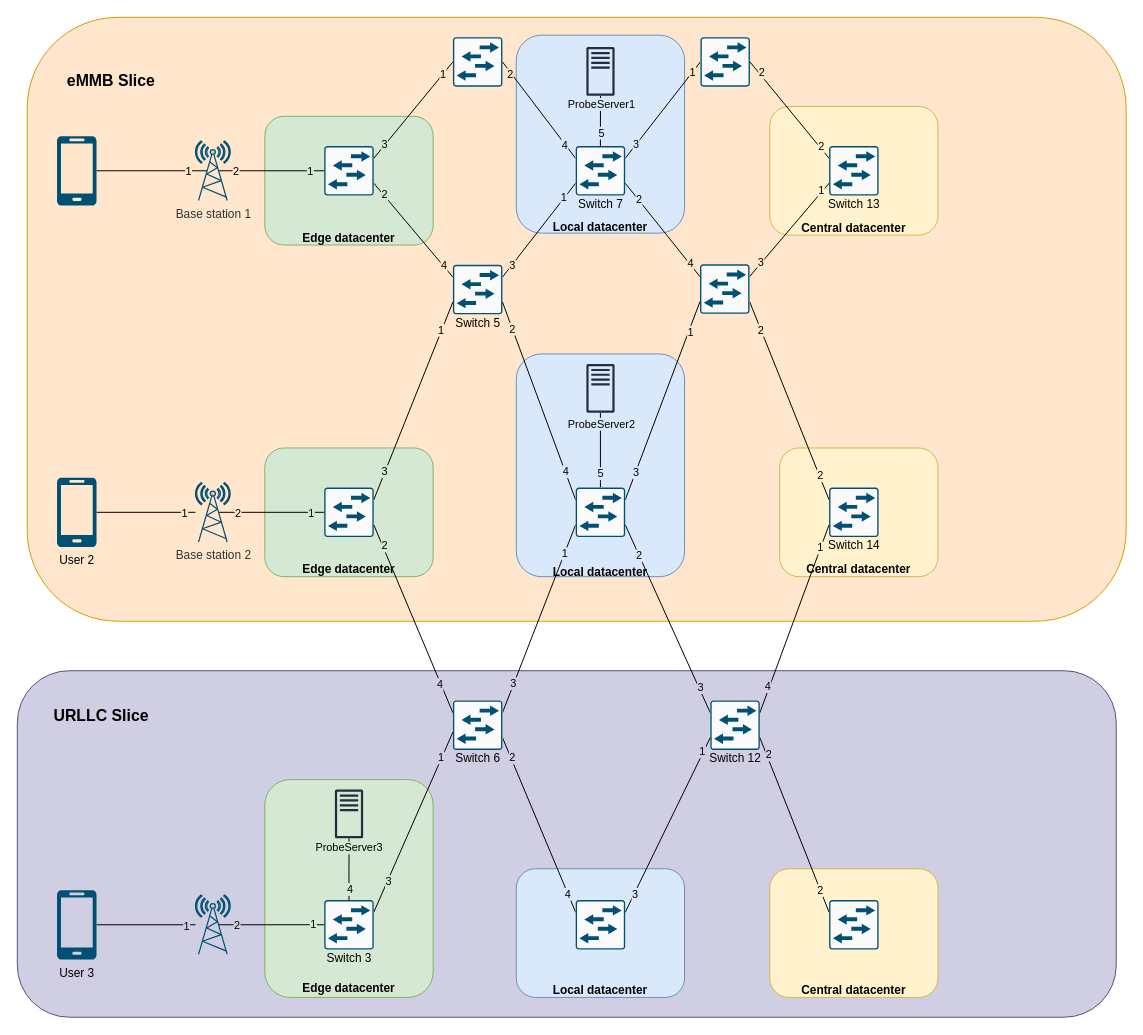
Image size: 1143x1035. Some labels were removed from this diagram. Here are the shapes that lost their labels. From the top down, the centre of each, then its label:
At (x=477, y=61): "Switch 4".
At (x=724, y=61): "Switch 10".
At (x=76, y=170): "User 1".
At (x=348, y=170): "Switch 1".
At (x=724, y=288): "Switch 11".
At (x=348, y=512): "Switch 2".
At (x=600, y=512): "Switch 8".
At (x=212, y=924): "Base station 3".
At (x=600, y=924): "Switch 9".
At (x=853, y=924): "Switch 15".
